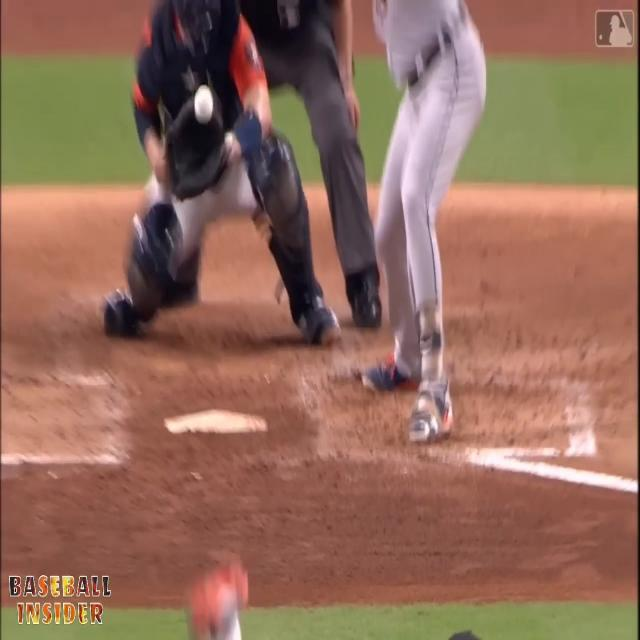baseball: (194, 84, 213, 120)
